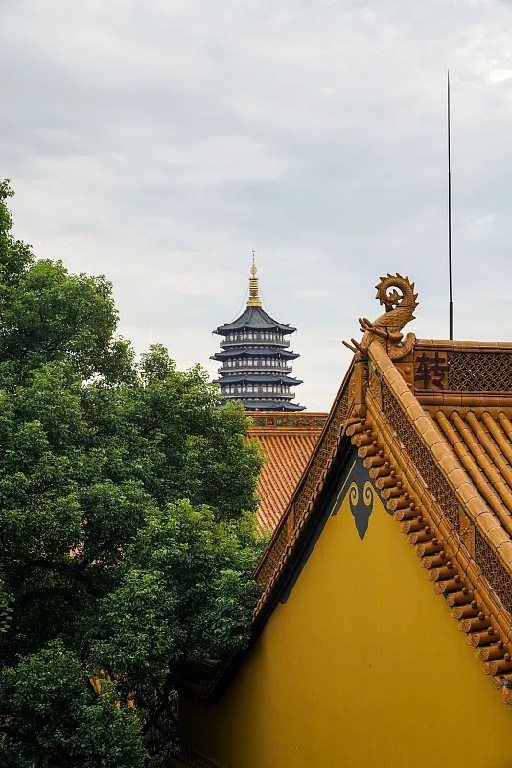Leifeng: (208, 249, 306, 411)
